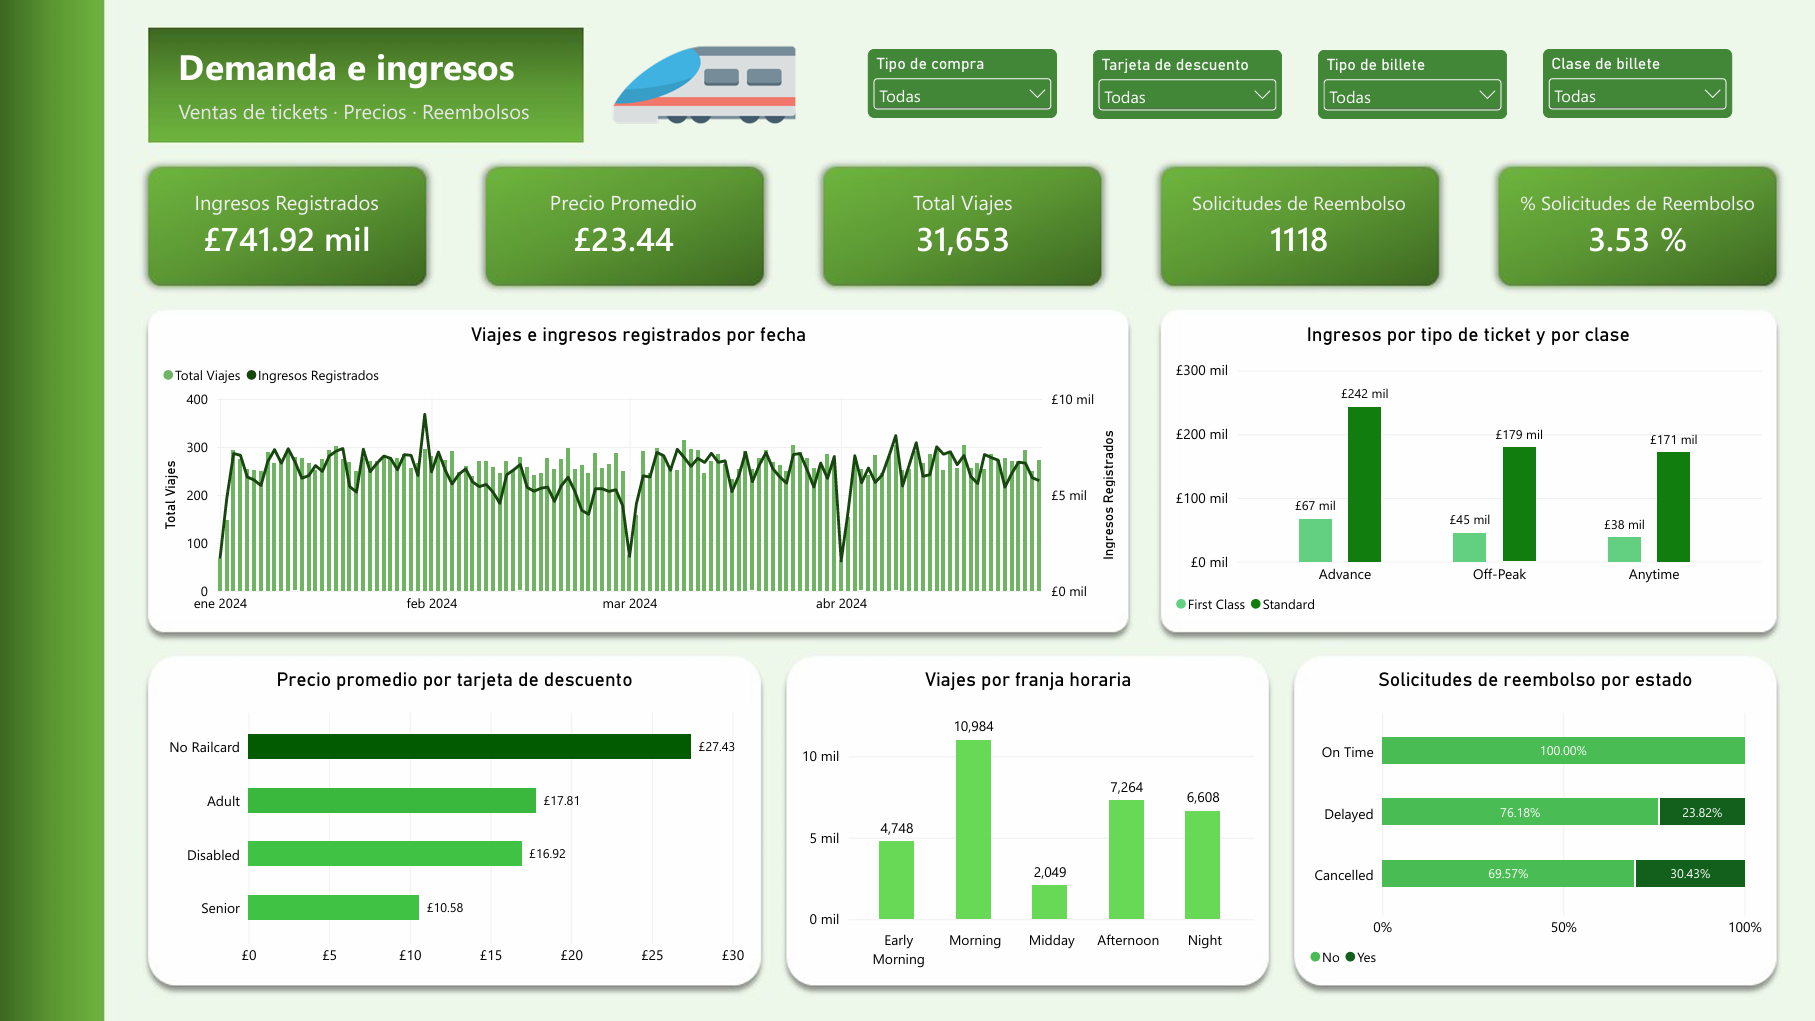

Layout of this report page (visuals, bound fields, positions):
{"tool":"powerbi","page":{"name":"Página 3","canvas":[1920,1080],"ordinal":2},"visuals":[{"type":"slicer","fields":{"Values":["public railway.Railcard"]},"box":[1155.2,51.9,200,73.1],"z":0},{"type":"slicer","fields":{"Values":["public railway.Ticket Type"]},"box":[1393.2,51.9,200,72.7],"z":1000},{"type":"slicer","fields":{"Values":["public railway.Ticket Class"]},"box":[1631.3,51.4,200,73.1],"z":2000},{"type":"textbox","box":[188.1,43.6,361.9,58.8],"z":3000},{"type":"textbox","box":[188.2,102.5,393.3,33.3],"z":4000},{"type":"hundredPercentStackedBarChart","title":"Solicitudes de reembolso por estado","fields":{"Category":["public railway.Journey Status"],"Series":["public railway.Refund Request"],"Y":["public railway.Total Viajes"]},"box":[1367.6,692,510.2,349.4],"z":5000},{"type":"clusteredColumnChart","title":"Ingresos por tipo de ticket y por clase","fields":{"Category":["public railway.Ticket Type"],"Series":["public railway.Ticket Class"],"Y":["public railway.Ingresos Registrados"]},"box":[1226.1,326.7,651.7,341.5],"z":6000},{"type":"lineStackedColumnComboChart","title":"Viajes e ingresos registrados por fecha","fields":{"Category":["public railway.Date of Journey"],"Y":["public railway.Total Viajes"],"Y2":["public railway.Ingresos Registrados"]},"box":[154.6,326.9,1039.2,341.5],"z":7000},{"type":"slicer","fields":{"Values":["public railway.Purchase Type"]},"box":[917.1,51.4,200,72.6],"z":8000},{"type":"cardVisual","fields":{"Data":["public railway.Ingresos Registrados"]},"box":[154.7,173.9,295,126.1],"z":9000},{"type":"cardVisual","fields":{"Data":["public railway.Precio Promedio"]},"box":[512.4,173.9,292.5,126.1],"z":10000},{"type":"cardVisual","fields":{"Data":["public railway.Total Viajes"]},"box":[870.2,173.9,294.4,126.1],"z":11000},{"type":"cardVisual","fields":{"Data":["public railway.Solicitudes de Reembolso"]},"box":[1226.1,173.9,293.8,126.1],"z":12000},{"type":"image","box":[646,26.1,196.3,124.8],"z":13000},{"type":"cardVisual","fields":{"Data":["public railway.% Solicitudes de Reembolso"]},"box":[1584.5,173.9,293.2,126.1],"z":14000},{"type":"columnChart","title":"Viajes por franja horaria","fields":{"Category":["public railway.Time Slot"],"Y":["public railway.Total Viajes"]},"box":[830.7,692,511.4,349.4],"z":15000},{"type":"barChart","title":"Precio promedio por tarjeta de descuento","fields":{"Category":["public railway.Railcard"],"Y":["public railway.Precio Promedio"]},"box":[154.5,692,650.6,349.4],"z":16000}]}

Visuals, with their boxes in screenshot pixels (x1, y1, x2, y2), scaled from the page's 1920x1080 canvas onto the 1815x1021 screenshot:
slicer - public railway.Railcard: [x1=1092, y1=49, x2=1281, y2=118]
slicer - public railway.Ticket Type: [x1=1317, y1=49, x2=1506, y2=118]
slicer - public railway.Ticket Class: [x1=1542, y1=49, x2=1731, y2=118]
textbox: [x1=178, y1=41, x2=520, y2=97]
textbox: [x1=178, y1=97, x2=550, y2=128]
"Solicitudes de reembolso por estado" hundredPercentStackedBarChart: [x1=1293, y1=654, x2=1775, y2=985]
"Ingresos por tipo de ticket y por clase" clusteredColumnChart: [x1=1159, y1=309, x2=1775, y2=632]
"Viajes e ingresos registrados por fecha" lineStackedColumnComboChart: [x1=146, y1=309, x2=1129, y2=632]
slicer - public railway.Purchase Type: [x1=867, y1=49, x2=1056, y2=117]
cardVisual - public railway.Ingresos Registrados: [x1=146, y1=164, x2=425, y2=284]
cardVisual - public railway.Precio Promedio: [x1=484, y1=164, x2=761, y2=284]
cardVisual - public railway.Total Viajes: [x1=823, y1=164, x2=1101, y2=284]
cardVisual - public railway.Solicitudes de Reembolso: [x1=1159, y1=164, x2=1437, y2=284]
image: [x1=611, y1=25, x2=796, y2=143]
cardVisual - public railway.% Solicitudes de Reembolso: [x1=1498, y1=164, x2=1775, y2=284]
"Viajes por franja horaria" columnChart: [x1=785, y1=654, x2=1269, y2=985]
"Precio promedio por tarjeta de descuento" barChart: [x1=146, y1=654, x2=761, y2=985]
